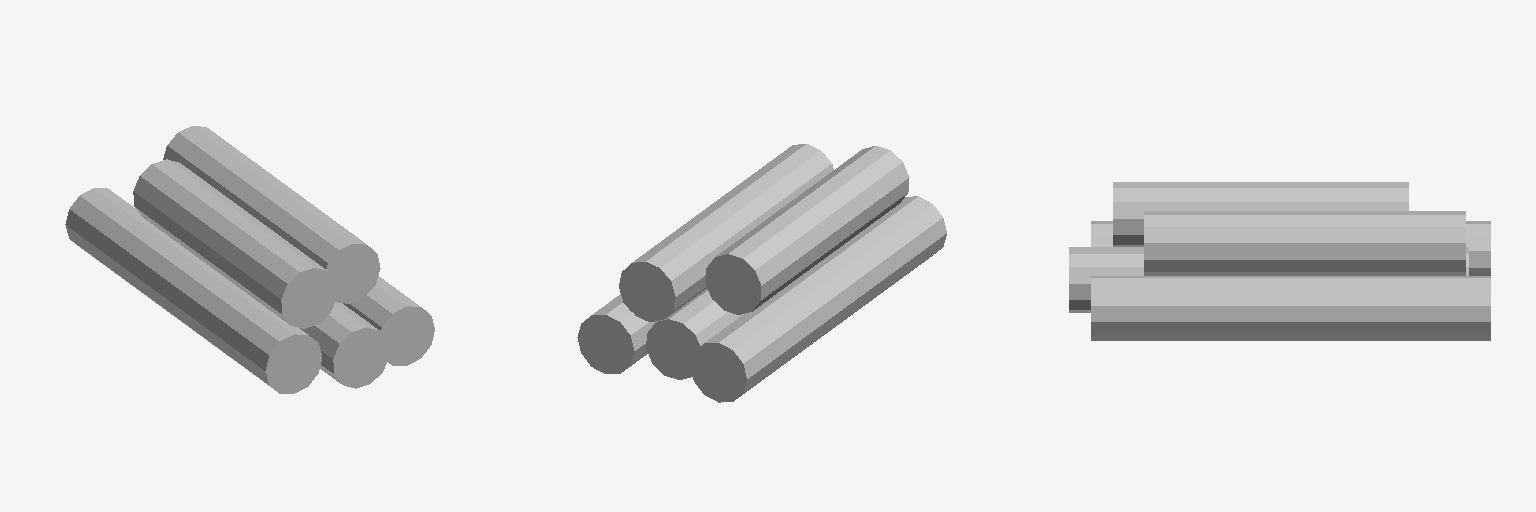
The model's file is Wood_01.obj.
The picture shows the model from 3 angles: view 1: azimuth 30°, elevation 25°; view 2: azimuth 150°, elevation 25°; view 3: azimuth 270°, elevation 25°; orthographic projection.
Visible parts, largest first — view 1: Cylinder.005_Cylinder.015; view 2: Cylinder.005_Cylinder.015; view 3: Cylinder.005_Cylinder.015.
Part boxes in pixels (bbox=[...]): Cylinder.005_Cylinder.015: bbox=[65, 126, 434, 393]; Cylinder.005_Cylinder.015: bbox=[577, 144, 946, 402]; Cylinder.005_Cylinder.015: bbox=[1069, 182, 1490, 340].
Bounding box in the file's own units: 0.8218 × 0.5129 × 1.77.